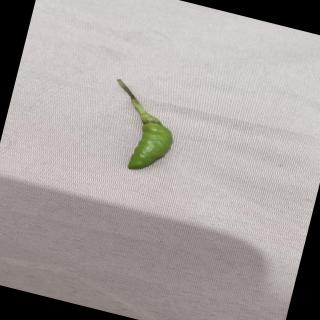Cabai Hijau: (89, 73, 193, 185)
